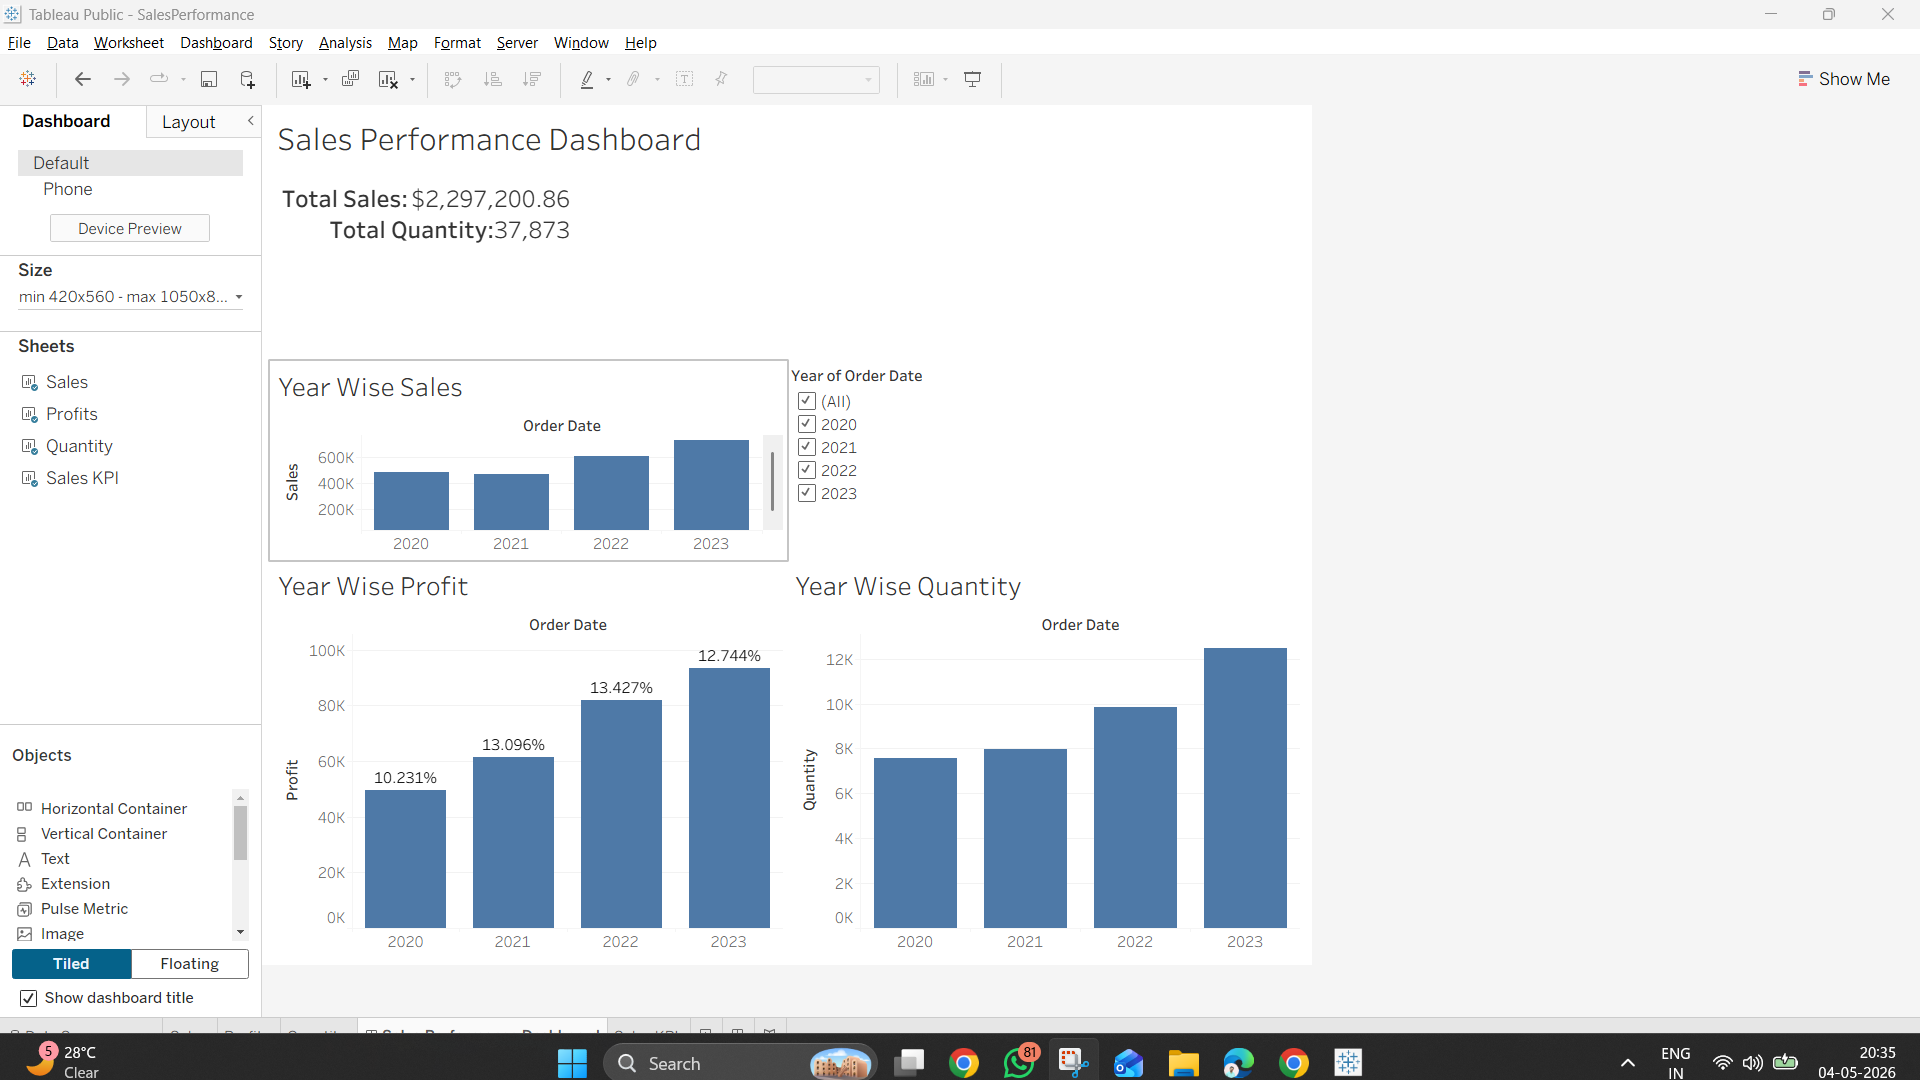

Layout of this report page (visuals, bound fields, positions):
{"tool":"tableau","page":{"name":"Sales Performance Dashboard","canvas":[1000,1000],"units":"permille","ordinal":0},"visuals":[{"type":"worksheet","title":"Sales KPI","mark":"Automatic","box":[7.6,9.3,984.8,245.3]},{"type":"worksheet","title":"Sales","mark":"Bar","rows":["Sales"],"cols":["Order Date"],"box":[7.6,254.6,492.4,245.3]},{"type":"filter","title":"Sales","param":"[federated.01ai16109bdib612ddl8008r3yfi].[yr:Order Date:ok]","box":[500,254.6,492.4,175.6]},{"type":"worksheet","title":"Profits","mark":"Bar","rows":["Profit"],"cols":["Order Date"],"box":[7.6,500,492.4,490.7]},{"type":"worksheet","title":"Quantity","mark":"Bar","rows":["Quantity"],"cols":["Order Date"],"box":[500,500,492.4,490.7]}]}

Visuals, with their boxes on the dashboard's canvas, which has no fixed pixel size, in thousandths of its width and height (x1, y1, x2, y2). These are canvas units, not pixel positions in the 1920x1080 screenshot, which may show the page scaled, cropped or inside an application window:
"Sales KPI" worksheet: (left=8, top=9, right=992, bottom=255)
"Sales" worksheet (Bar marks): (left=8, top=255, right=500, bottom=500)
"Sales" filter: (left=500, top=255, right=992, bottom=430)
"Profits" worksheet (Bar marks): (left=8, top=500, right=500, bottom=991)
"Quantity" worksheet (Bar marks): (left=500, top=500, right=992, bottom=991)
